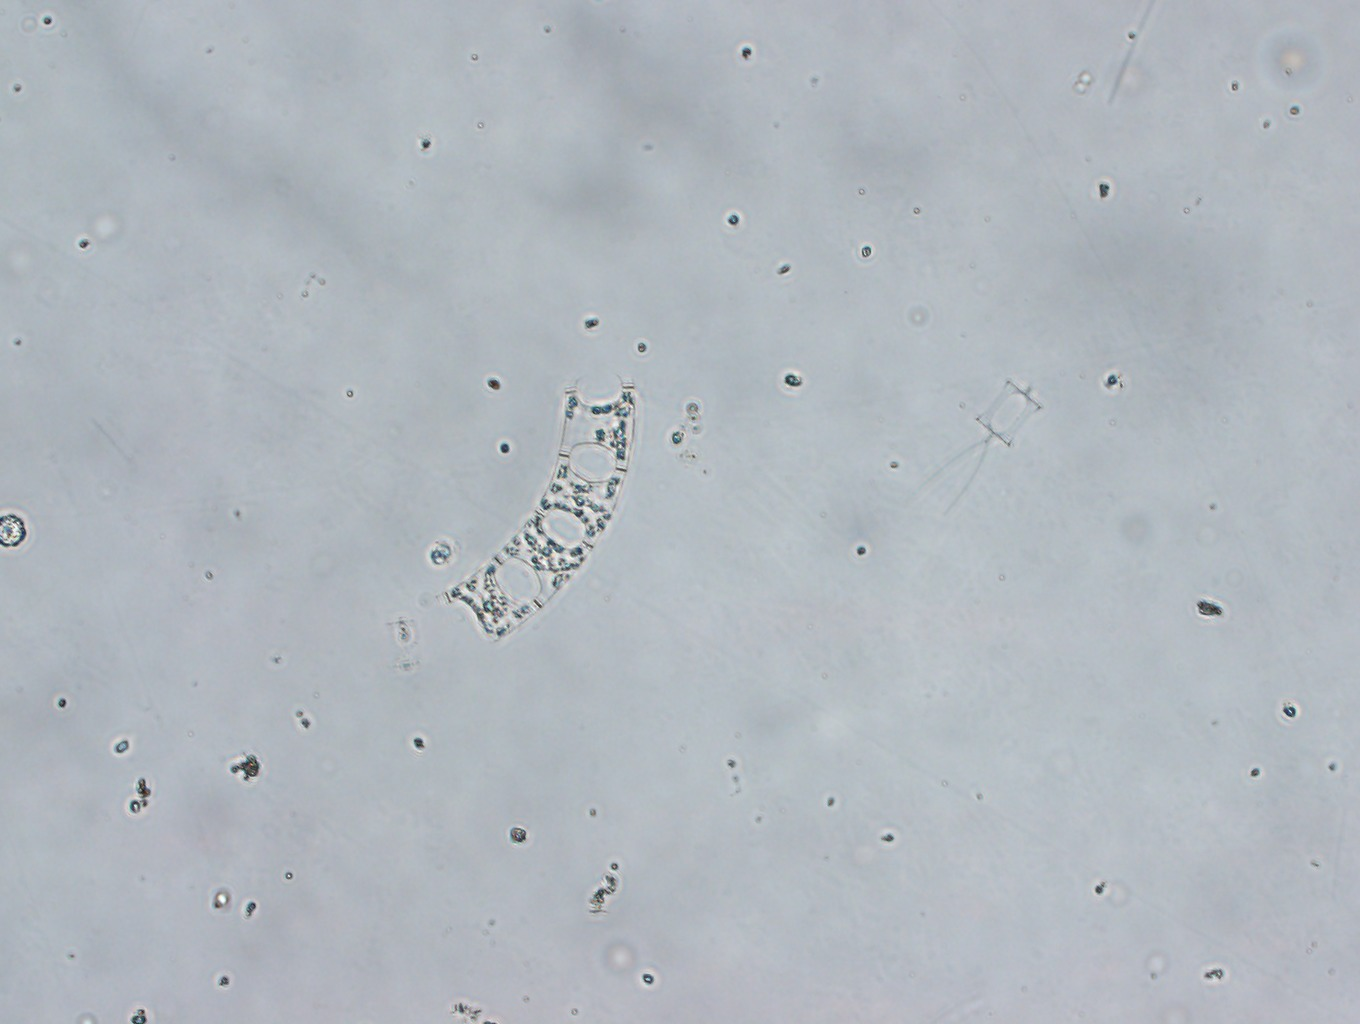chaetoceros: (916, 371, 1045, 521)
eucampia: (442, 364, 639, 648)
